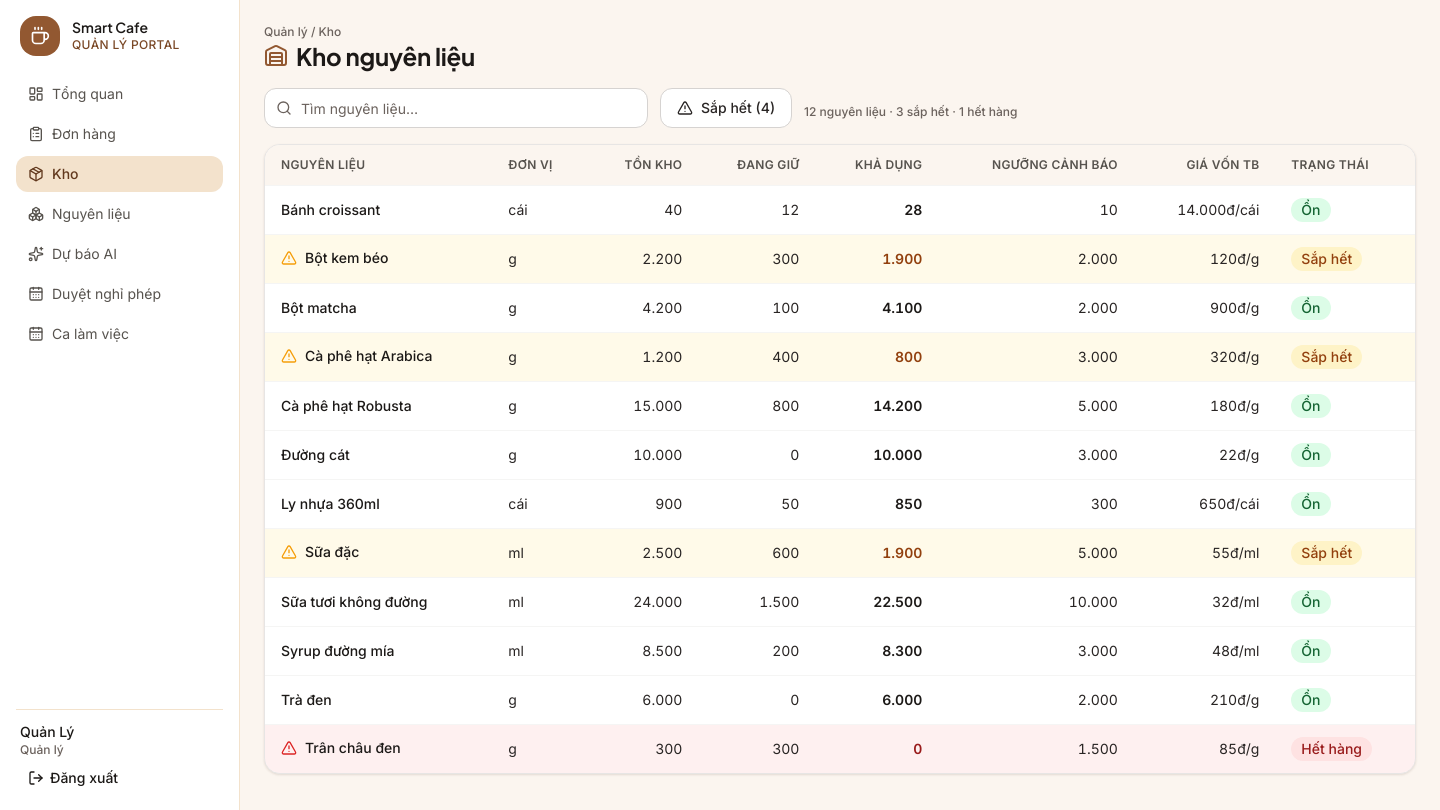
/manager/inventory › Waste phải là số âm: chặn ngay ở form, không gọi API
The width and height of the screenshot is (1440, 810).
Click the button "Sữa đặc" at (320, 552), box [281,542,359,562]
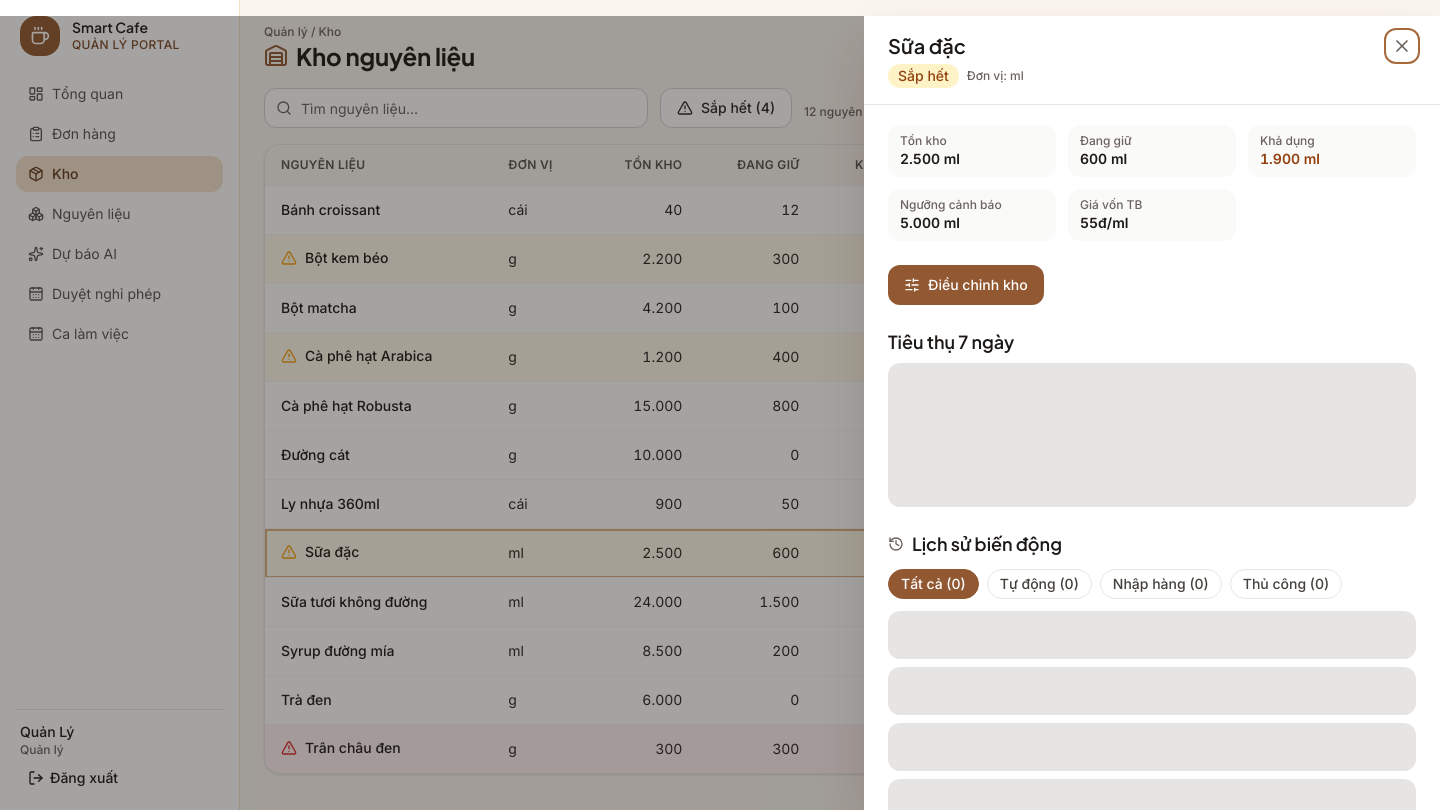
Click the button "Điều chỉnh kho" at (966, 285), box [888,265,1044,305]
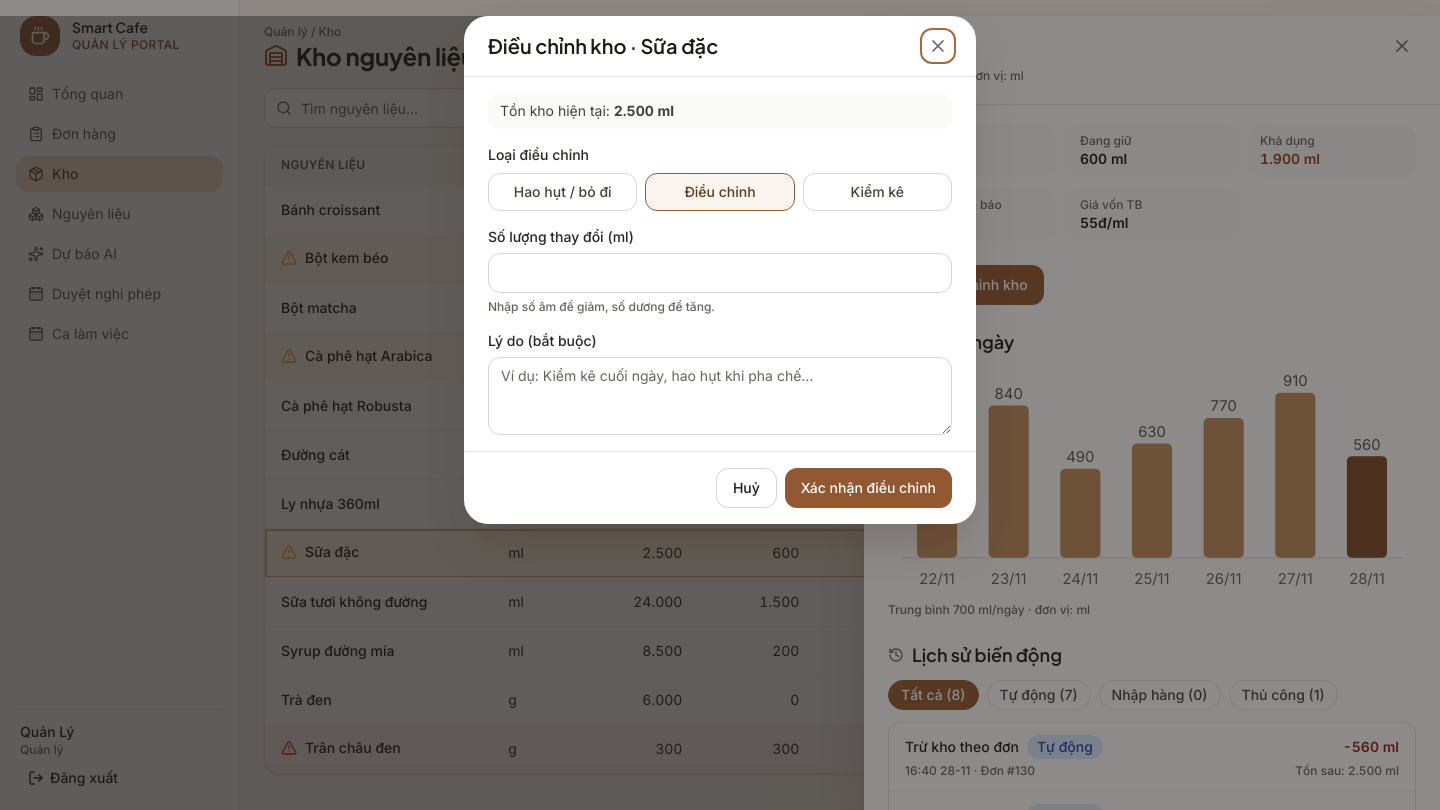
Click the radio button labelled "Hao hụt / bỏ đi" at (563, 192), box [488,173,637,211]
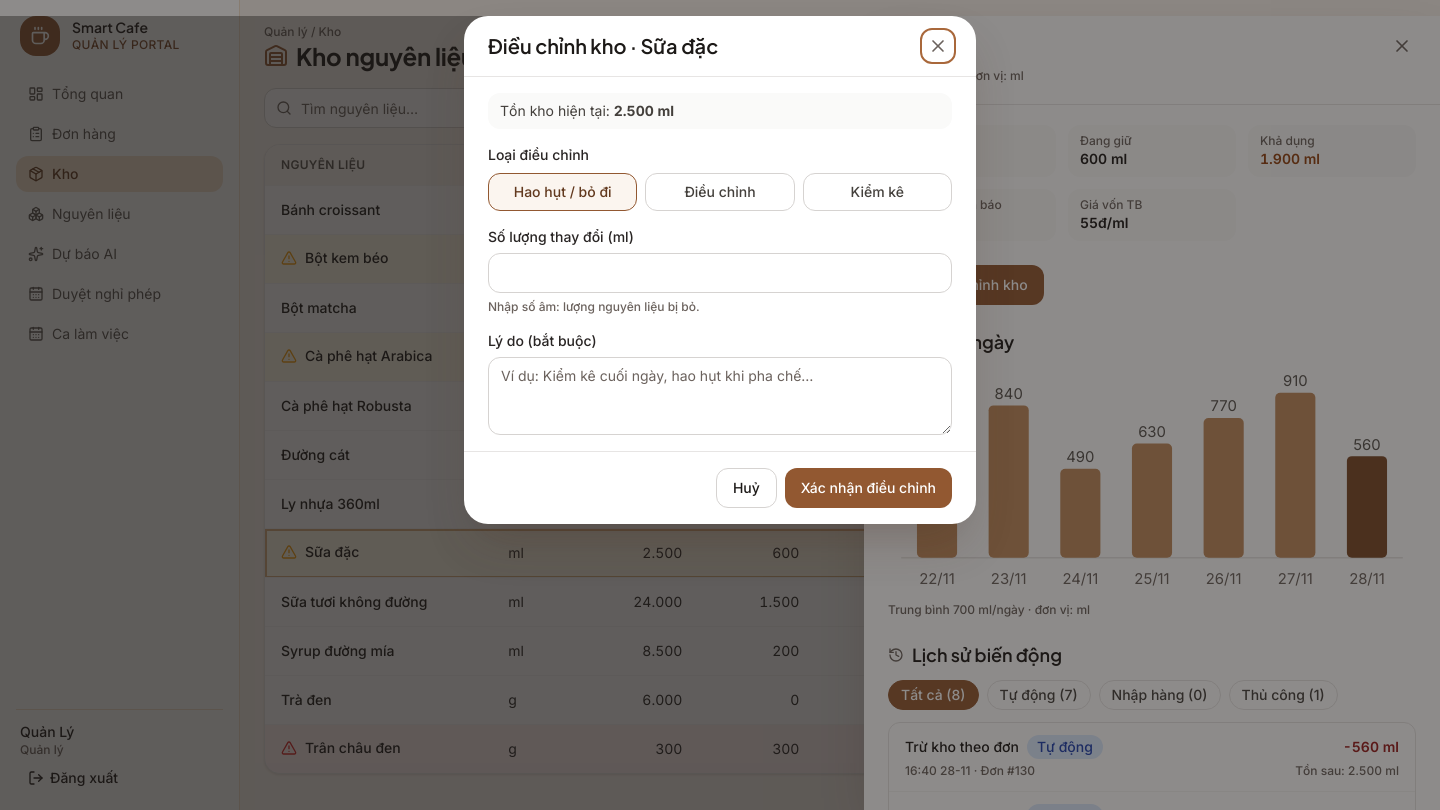
Type "100" into the number field labelled "Số lượng thay đổi (ml)" at (720, 273), box [488,253,952,293]
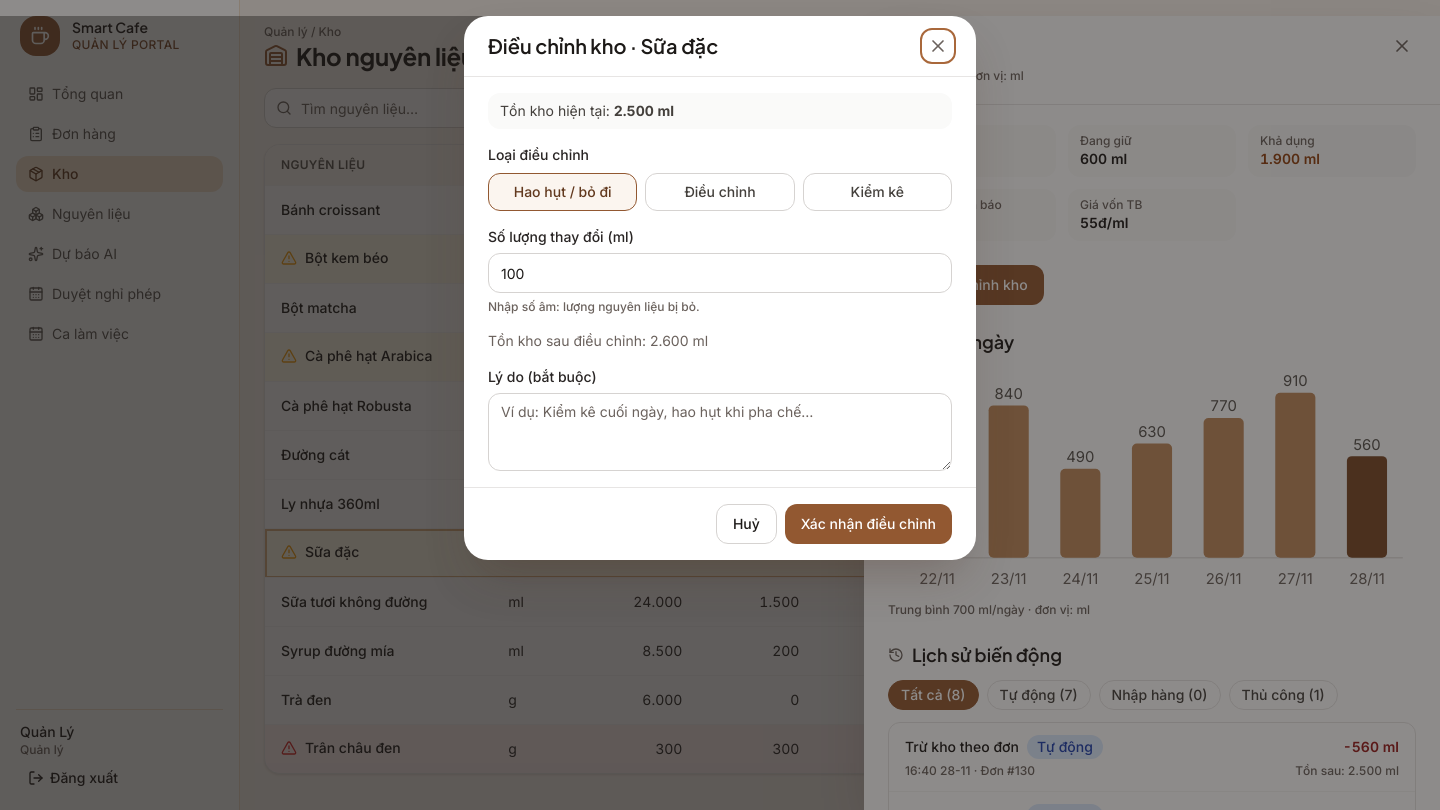
Type "Bỏ hộp hỏng" into the text box labelled "Lý do (bắt buộc)" at (720, 432), box [488,393,952,471]
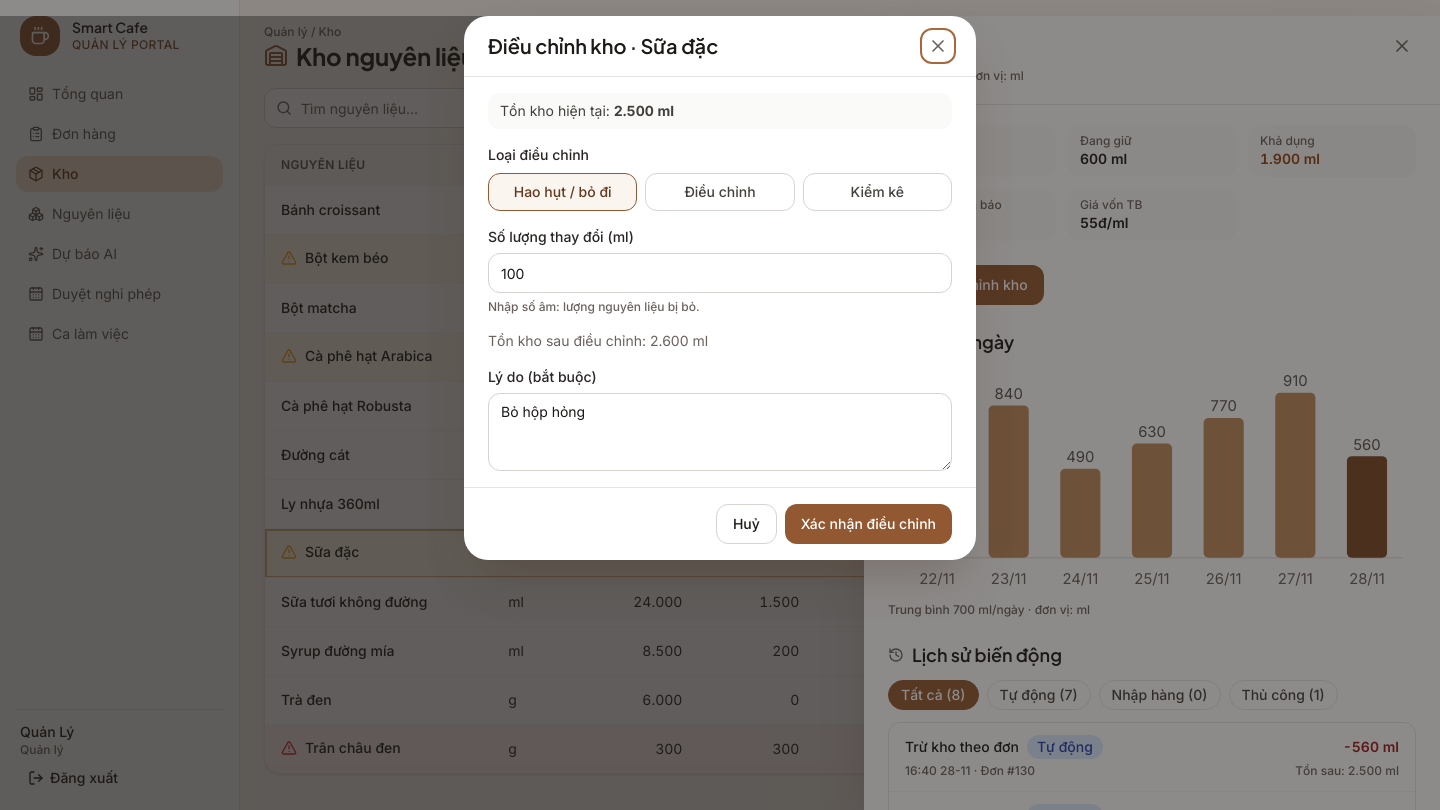
Click the button "Xác nhận điều chỉnh" at (868, 524), box [785,504,952,544]
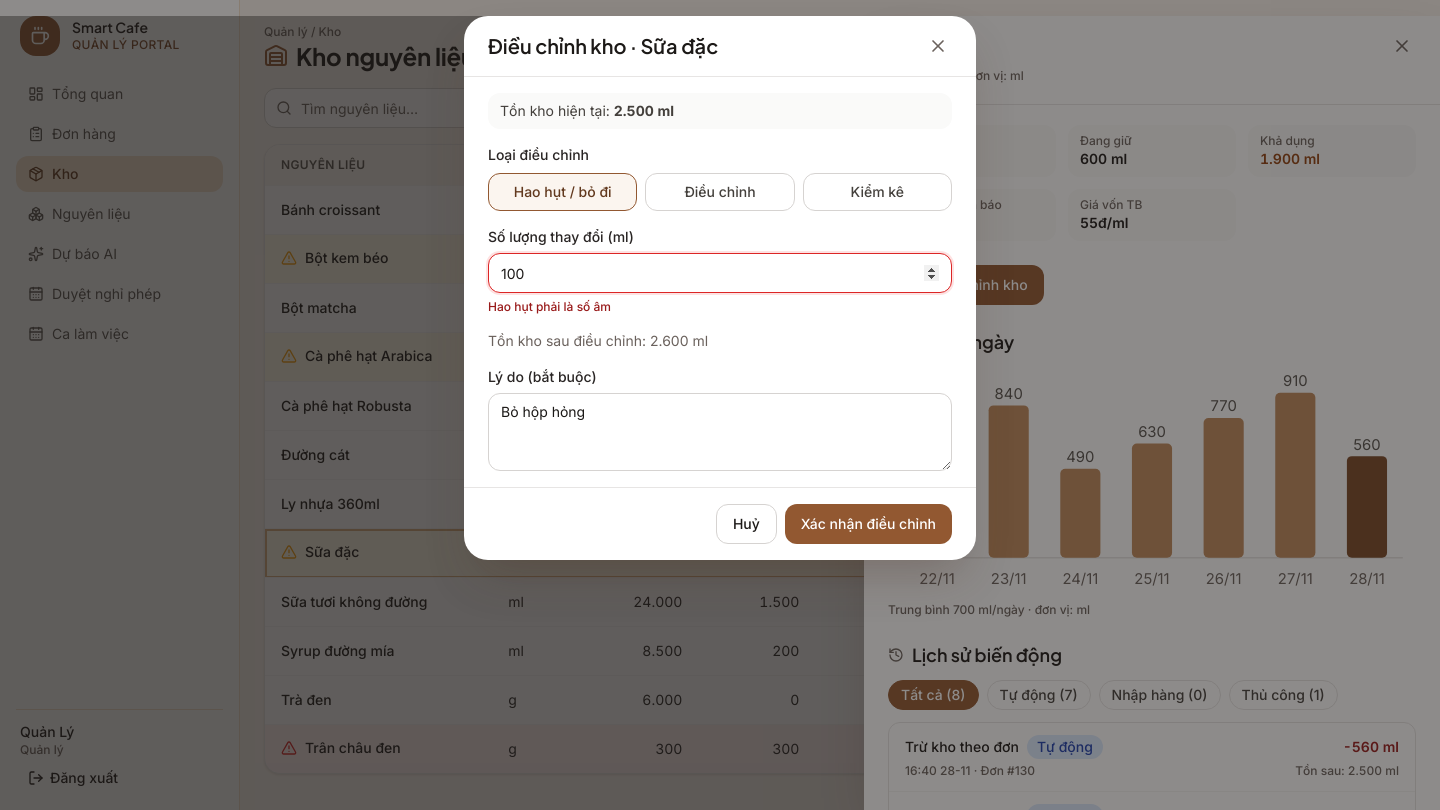
Expected: the text "Hao hụt phải là số âm" is shown, [488,299,611,314]
